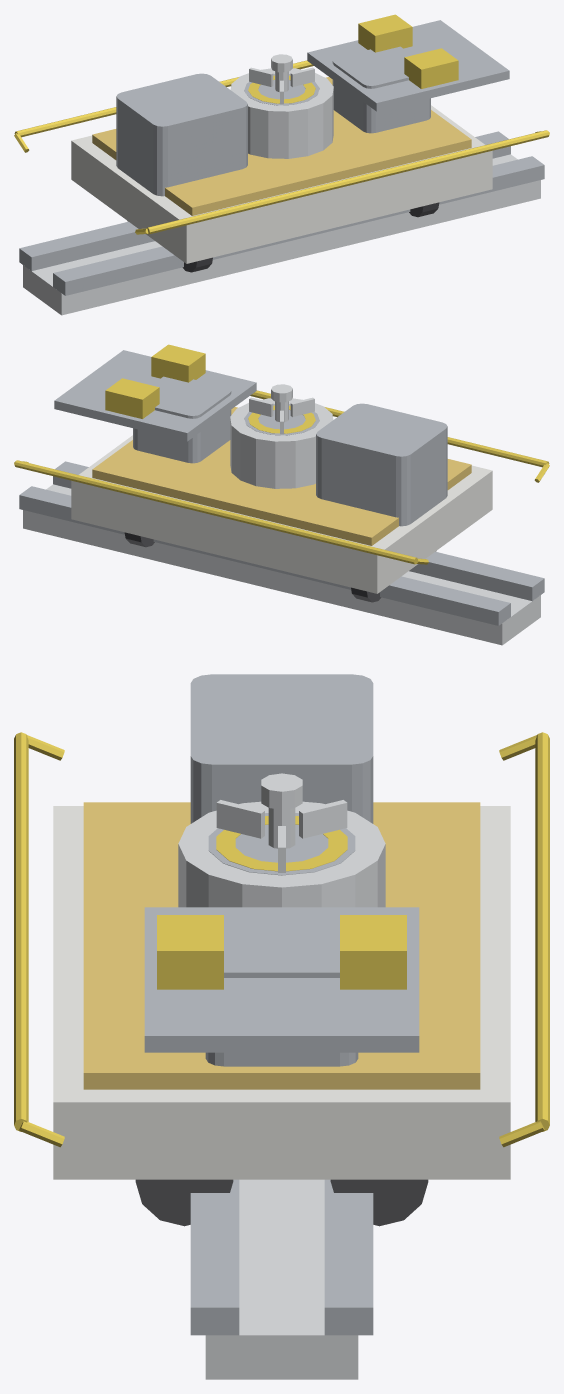
Rendered from orbital-station-and-docking-bays-mobile-base-cart-6bb954f8__24557.glb.
3 renders of one model, top to bottom at view 1: azimuth 30°, elevation 25°; view 2: azimuth 150°, elevation 25°; view 3: azimuth 270°, elevation 25°, orthographic. The views are drawn at different scales.
Parts seen in each view (by area): view 1: mobile-base-cart; view 2: mobile-base-cart; view 3: mobile-base-cart, roller-fs, roller-fp.
Boxes of the visible parts, box(x1,y1,x2,y2) form: mobile-base-cart: box(14, 14, 549, 315); mobile-base-cart: box(14, 344, 549, 645); mobile-base-cart: box(14, 674, 549, 1379); roller-fs: box(135, 1179, 233, 1226); roller-fp: box(330, 1179, 428, 1226).
Bounding box in the file's own units: 3.6 × 1.32 × 1.76.
